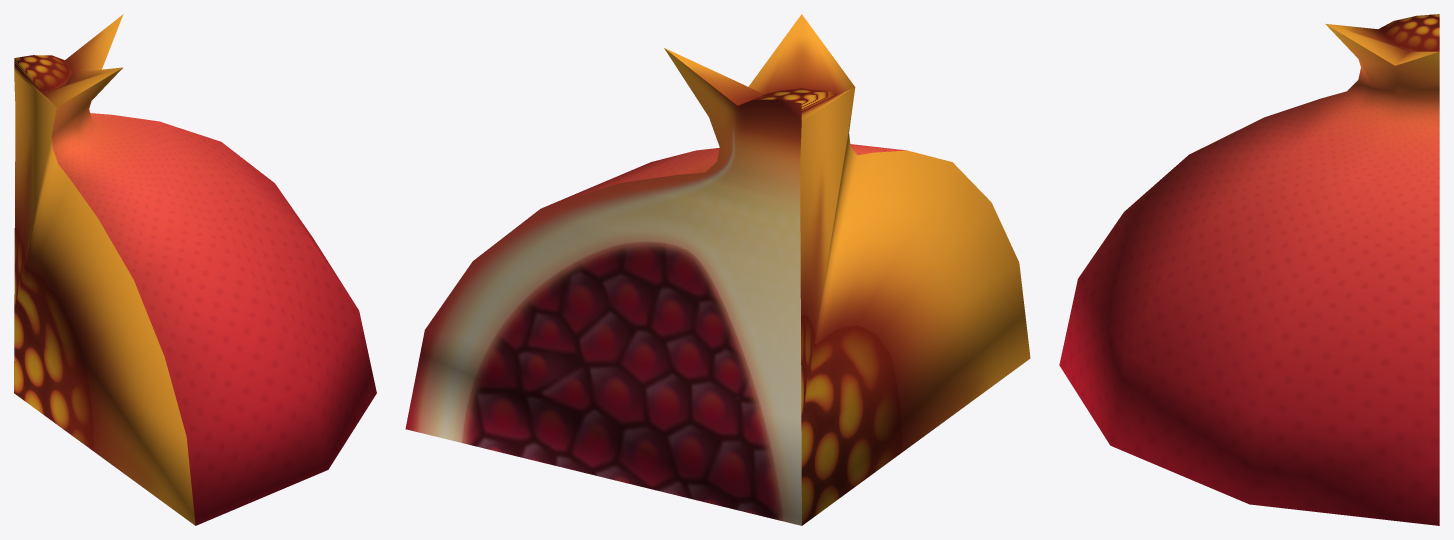
File: Pome_Top1.fbx
The picture shows the model from 3 angles, left to right: view 1: azimuth 30°, elevation 25°; view 2: azimuth 150°, elevation 25°; view 3: azimuth 270°, elevation 25°; orthographic projection. The views are drawn at different scales.
Visible parts, largest first — view 1: Pomegranate_Half_Back; view 2: Pomegranate_Half_Back; view 3: Pomegranate_Half_Back.
Part boxes in pixels (<box>): Pomegranate_Half_Back: <box>14,14,376,525</box>; Pomegranate_Half_Back: <box>405,14,1030,525</box>; Pomegranate_Half_Back: <box>1059,14,1439,525</box>.
Bounding box in the file's own units: 0.7504 × 0.8041 × 0.75.
